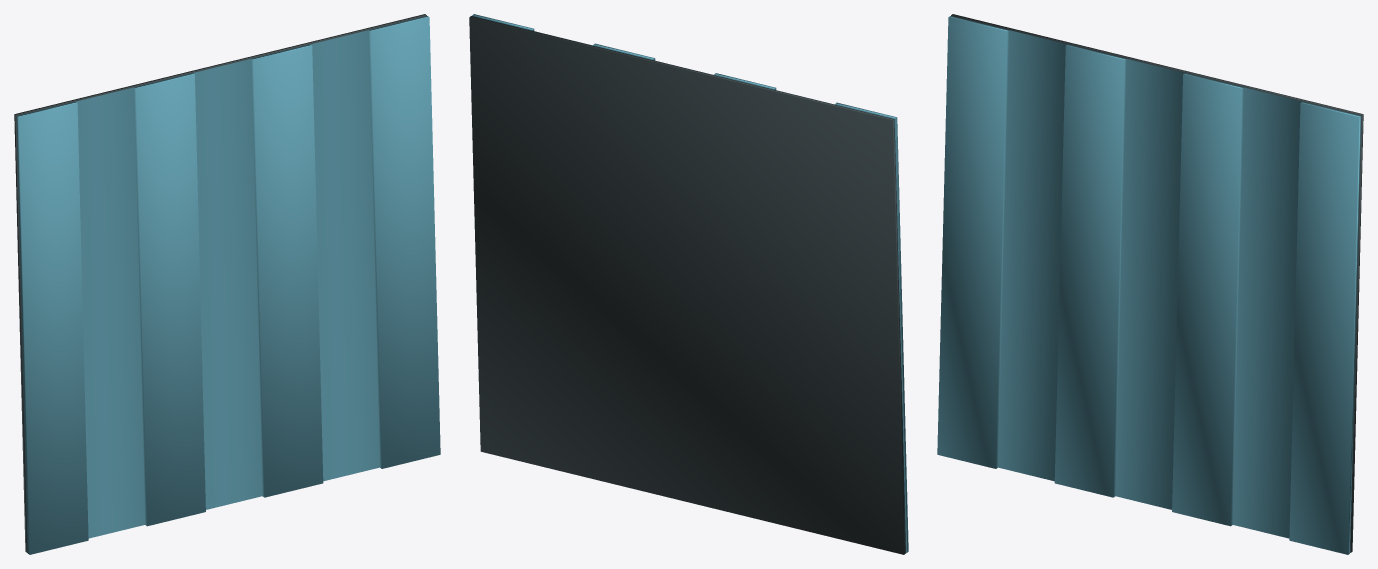
3 renders of one model, left to right at view 1: azimuth 30°, elevation 25°; view 2: azimuth 150°, elevation 25°; view 3: azimuth 330°, elevation 25°, orthographic. The views are drawn at different scales.
Visible parts, largest first — view 1: Plane.001, Plane; view 2: Plane, Plane.001; view 3: Plane.001, Plane.
Boxes of the visible parts, <box> form: Plane.001: <box>16,16,440,554</box>; Plane: <box>14,14,426,552</box>; Plane: <box>469,16,905,554</box>; Plane.001: <box>472,14,908,553</box>; Plane.001: <box>937,16,1361,554</box>; Plane: <box>951,14,1363,552</box>.
Size of the model in its own units: 2 by 2 by 0.1315.
